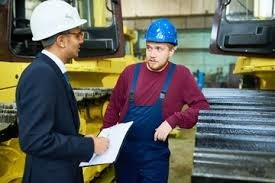helmet: (25, 1, 88, 39), (145, 18, 181, 48)
person with partial safety: (12, 1, 101, 175), (105, 16, 195, 180)
